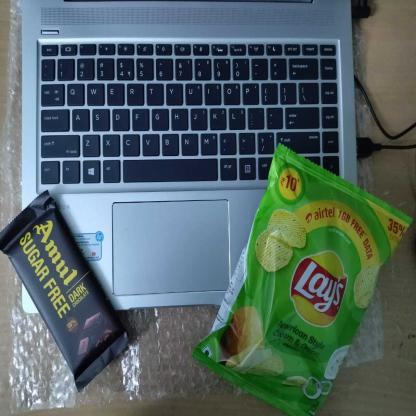cream_and_onion: (192, 142, 414, 415)
